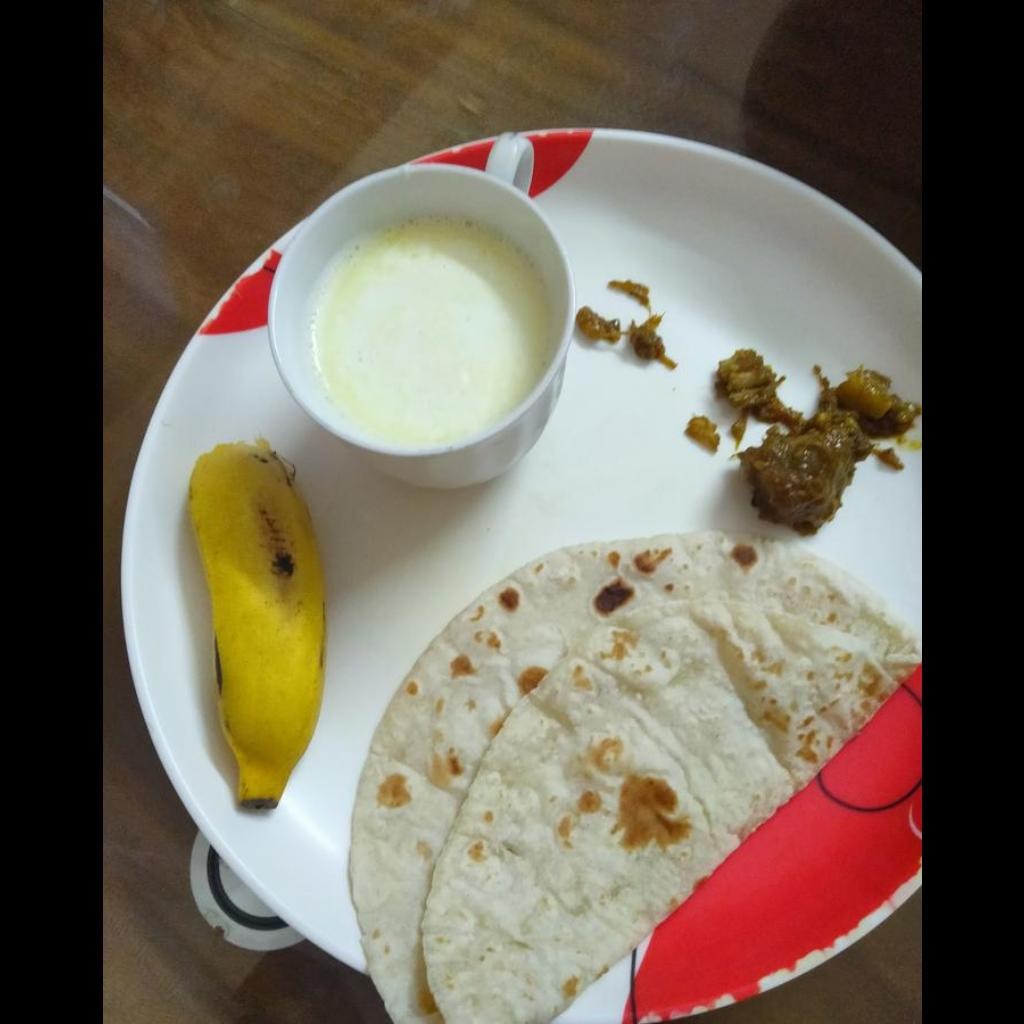achar: (715, 349, 920, 534)
banana: (183, 440, 317, 808)
milk: (305, 216, 554, 447)
ruti: (346, 524, 915, 1020)
